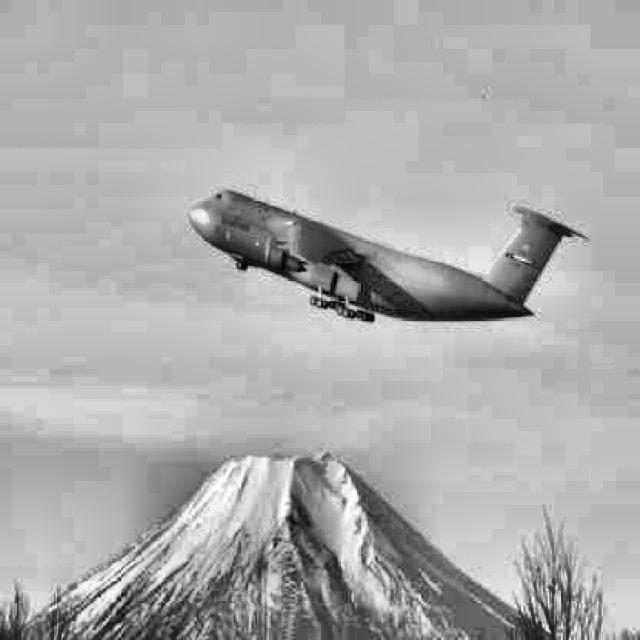C5: (188, 188, 590, 324)
